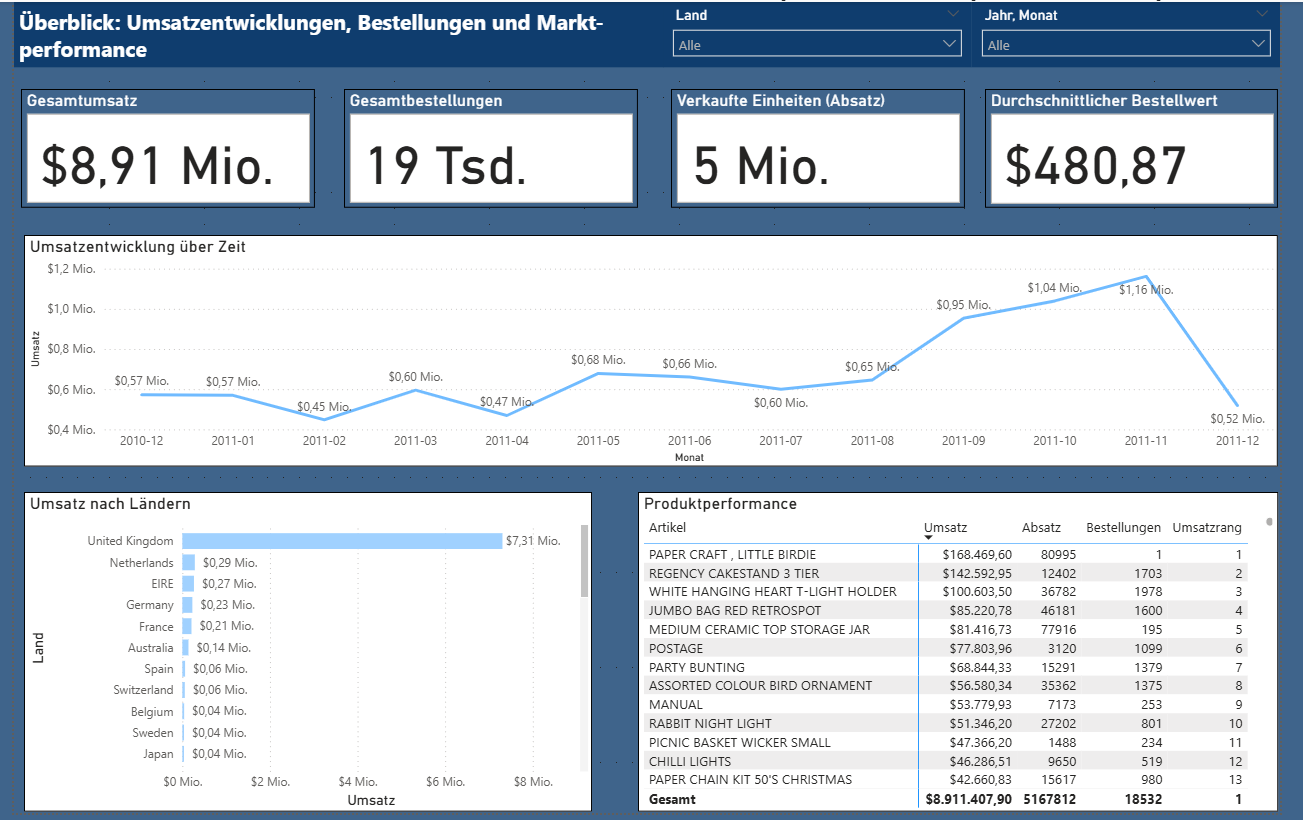

What the dashboard file says about the page in this screenshot:
{"tool":"powerbi","page":{"name":"Executive Overview","canvas":[1280,820],"ordinal":0},"visuals":[{"type":"cardVisual","title":"Gesamtumsatz","fields":{"Data":["fact_sales.Total Revenue"]},"box":[6.9,87.9,296.9,119.8],"z":0},{"type":"cardVisual","title":"Gesamtbestellungen","fields":{"Data":["fact_sales.Total Orders"]},"box":[333.5,87.9,296.9,119.8],"z":1000},{"type":"cardVisual","title":"Verkaufte Einheiten (Absatz)","fields":{"Data":["fact_sales.Total Units"]},"box":[664,87.9,296.9,119.8],"z":2000},{"type":"cardVisual","title":"Durchschnittlicher Bestellwert","fields":{"Data":["fact_sales.Average Order Value"]},"box":[980.9,87.9,296.1,120.3],"z":3000},{"type":"lineChart","title":"Umsatzentwicklung über Zeit","fields":{"Category":["dim_date.YearMonth"],"Y":["fact_sales.Total Revenue"]},"box":[10.1,235.5,1267.2,234.4],"z":4000},{"type":"barChart","title":"Umsatz nach Ländern","fields":{"Category":["dim_customer.Country"],"Y":["fact_sales.Total Revenue"]},"box":[10.1,495.2,574,323.4],"z":5000},{"type":"slicer","fields":{"Values":["dim_date.Date.Variation.Datumshierarchie.Jahr","dim_date.Date.Variation.Datumshierarchie.Monat"]},"box":[968.1,0,312.3,65.7],"z":6000},{"type":"slicer","fields":{"Values":["dim_customer.Country"]},"box":[655.8,0,312.3,65.7],"z":7000},{"type":"pivotTable","title":"Produktperformance","fields":{"Rows":["dim_product.Description"],"Values":["fact_sales.Total Revenue","fact_sales.Total Units","fact_sales.Total Orders","fact_sales.Revenue Rank"]},"box":[630.6,495.2,646.7,323.4],"z":8000},{"type":"textbox","box":[0,0,655.8,65.7],"z":9000}]}

Visuals, with their boxes in screenshot pixels (x1, y1, x2, y2), scaled from the page's 1280x820 canvas onto the 1303x820 screenshot:
"Gesamtumsatz" cardVisual: pyautogui.locateOnScreen(7, 88, 309, 208)
"Gesamtbestellungen" cardVisual: pyautogui.locateOnScreen(339, 88, 642, 208)
"Verkaufte Einheiten (Absatz)" cardVisual: pyautogui.locateOnScreen(676, 88, 978, 208)
"Durchschnittlicher Bestellwert" cardVisual: pyautogui.locateOnScreen(999, 88, 1300, 208)
"Umsatzentwicklung über Zeit" lineChart: pyautogui.locateOnScreen(10, 236, 1300, 470)
"Umsatz nach Ländern" barChart: pyautogui.locateOnScreen(10, 495, 595, 819)
slicer - dim_date.Date.Variation.Datumshierarchie.Jahr x dim_date.Date.Variation.Datumshierarchie.Monat: pyautogui.locateOnScreen(985, 0, 1302, 66)
slicer - dim_customer.Country: pyautogui.locateOnScreen(668, 0, 985, 66)
"Produktperformance" pivotTable: pyautogui.locateOnScreen(642, 495, 1300, 819)
textbox: pyautogui.locateOnScreen(0, 0, 668, 66)
